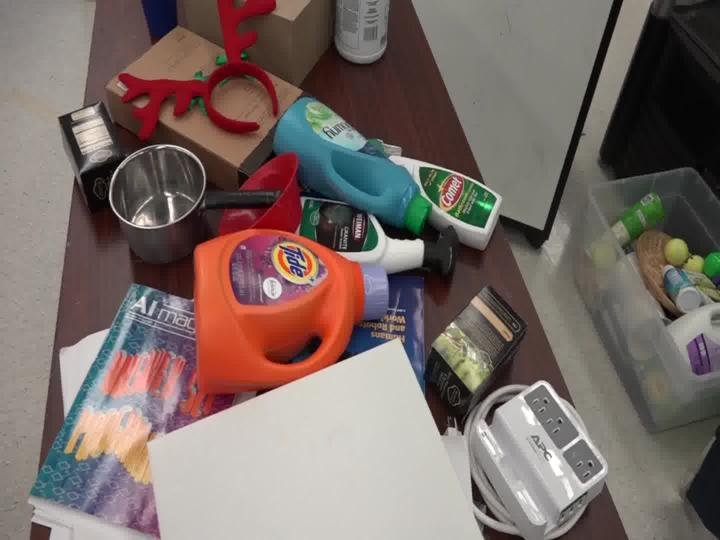tide: (166, 199, 396, 392)
